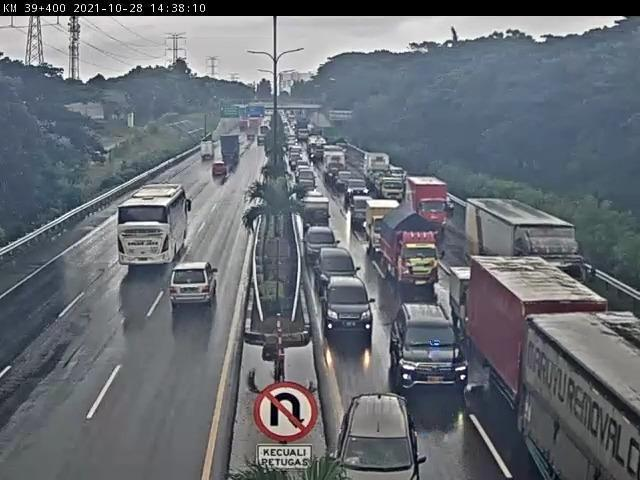Bus: (105, 185, 193, 281)
